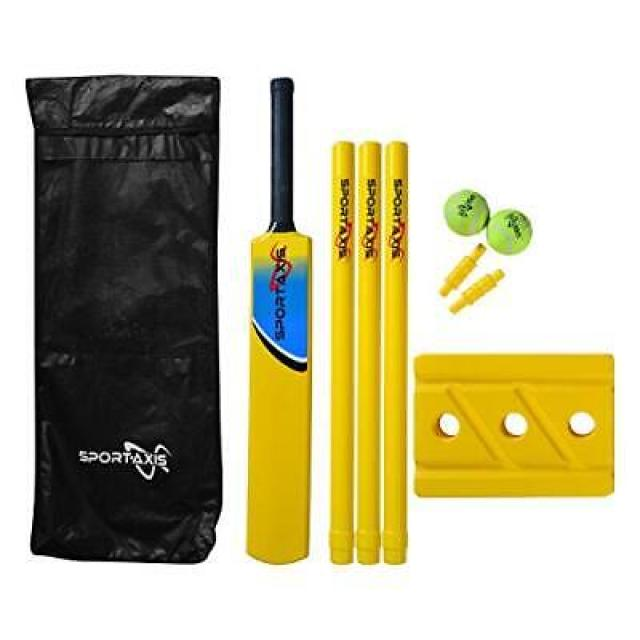stump: (331, 138, 409, 562)
